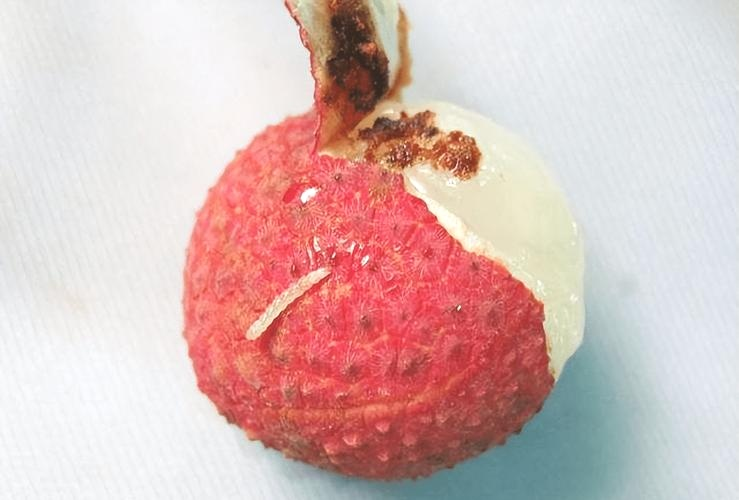Borer: (242, 265, 330, 337)
